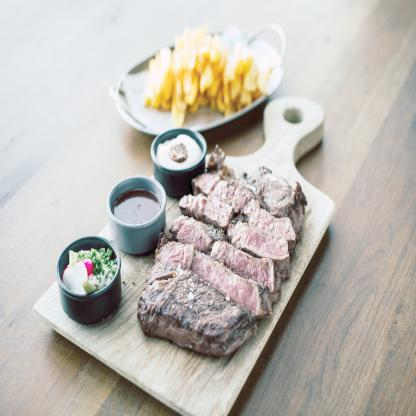Carne: (148, 239, 278, 311), (141, 278, 253, 354), (209, 241, 286, 288), (236, 204, 308, 245), (179, 190, 235, 231), (226, 217, 288, 253), (200, 174, 257, 207), (170, 213, 210, 250)
